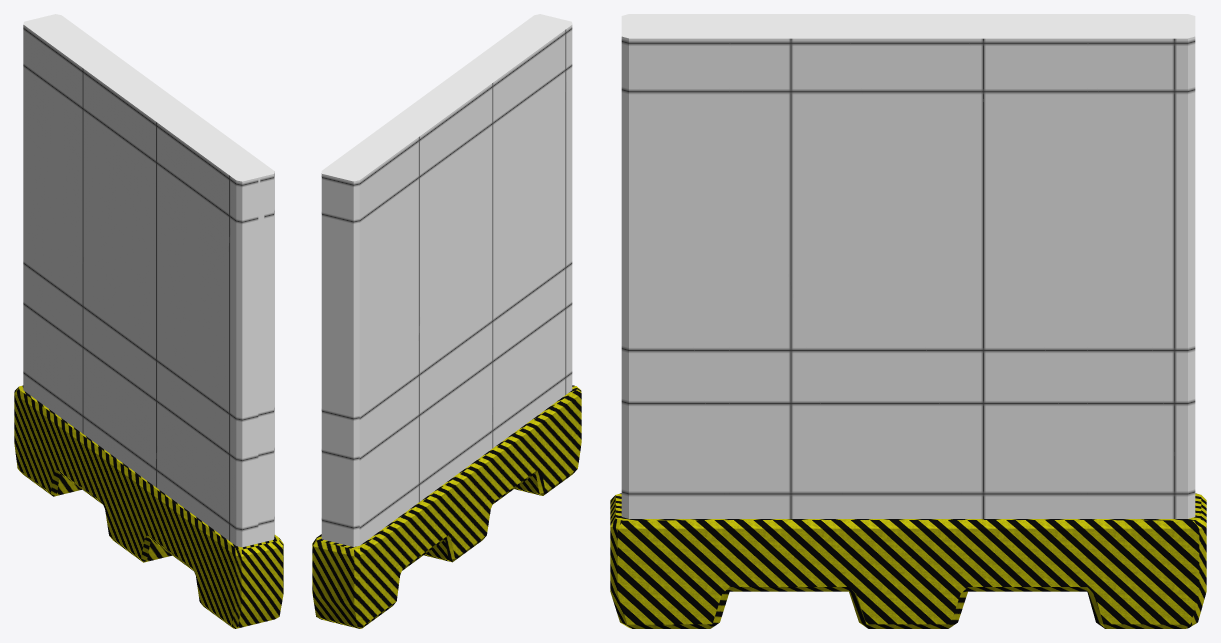
Rendered from Checkpoint_Door.FBX.
3 renders of one model, left to right at view 1: azimuth 30°, elevation 25°; view 2: azimuth 150°, elevation 25°; view 3: azimuth 270°, elevation 25°, orthographic. The views are drawn at different scales.
Parts seen in each view (by area): view 1: Box025; view 2: Box025; view 3: Box025.
Part boxes in pixels (x1,y1,x2,y2): Box025: [14, 14, 283, 628]; Box025: [312, 14, 581, 628]; Box025: [610, 14, 1206, 628].
Bounding box in the file's own units: 3.88 × 34.67 × 31.79.
